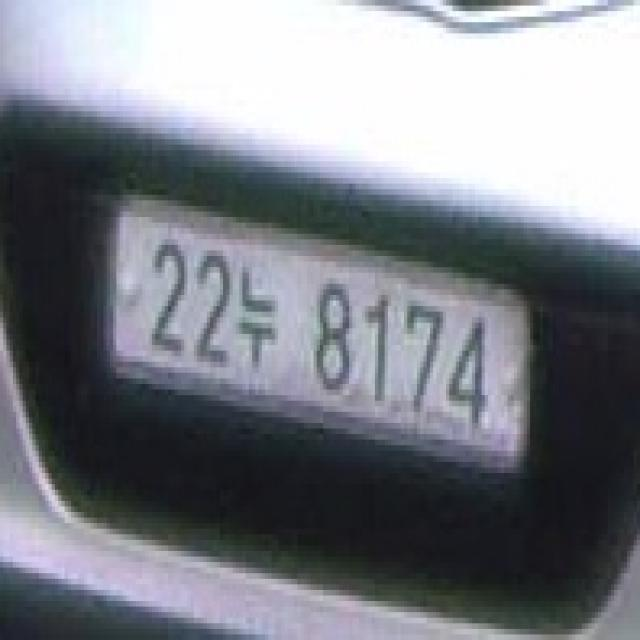1: (361, 281, 393, 411)
2: (191, 234, 234, 376), (143, 239, 190, 360)
4: (442, 301, 499, 436)
7: (400, 285, 449, 421)
8: (309, 269, 354, 401)
license_plate: (110, 205, 527, 461)
nu: (239, 258, 280, 380)
